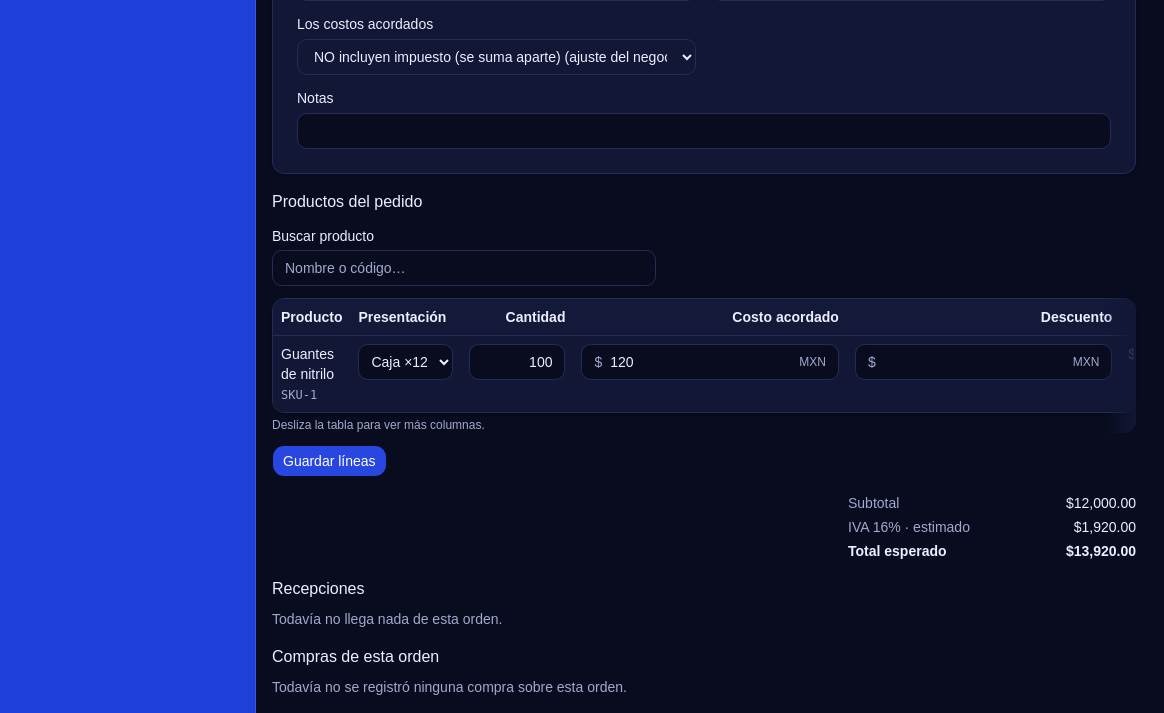
Órdenes de compra — la ficha (F9-PO-12/13) › si falta un campo, el aviso dice la línea › «Guardar líneas» con la cantidad vacía no envía y dice «Línea 1 · Cantidad»
This screenshot has width=1164, height=713.
(page scrolled)
Clear the field named "Cantidad" at [518, 362], box [470,344,566,380]
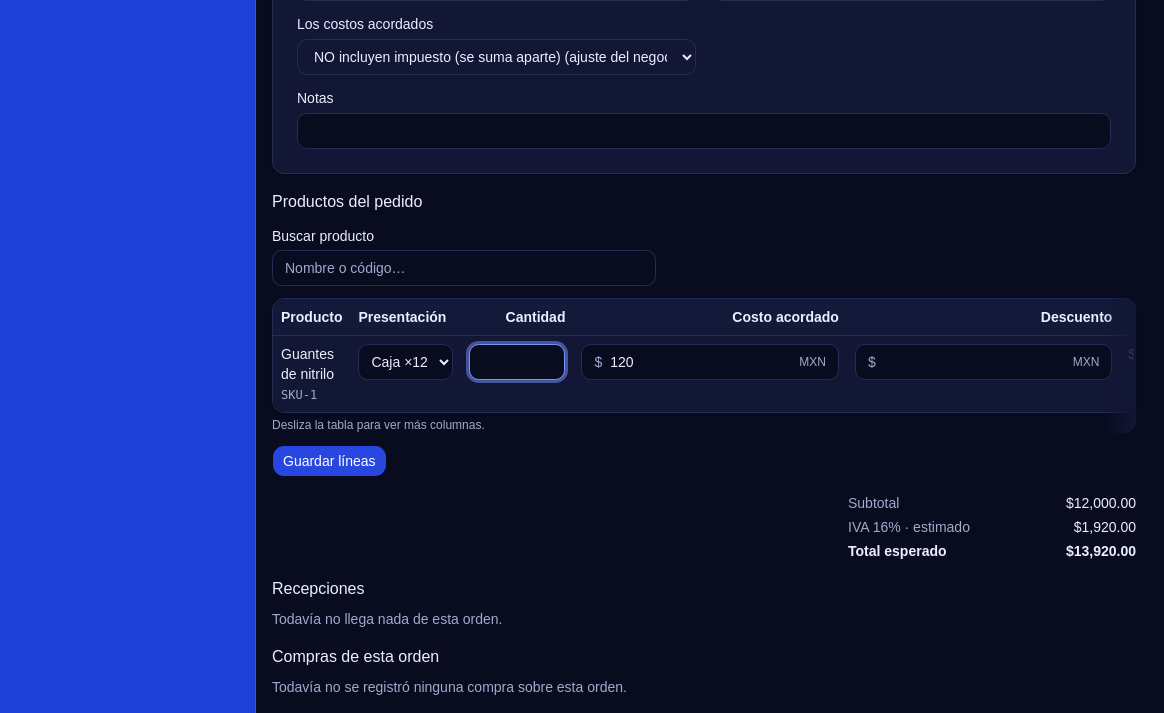
Click the button "Guardar líneas" at [329, 461], box [272,445,387,477]
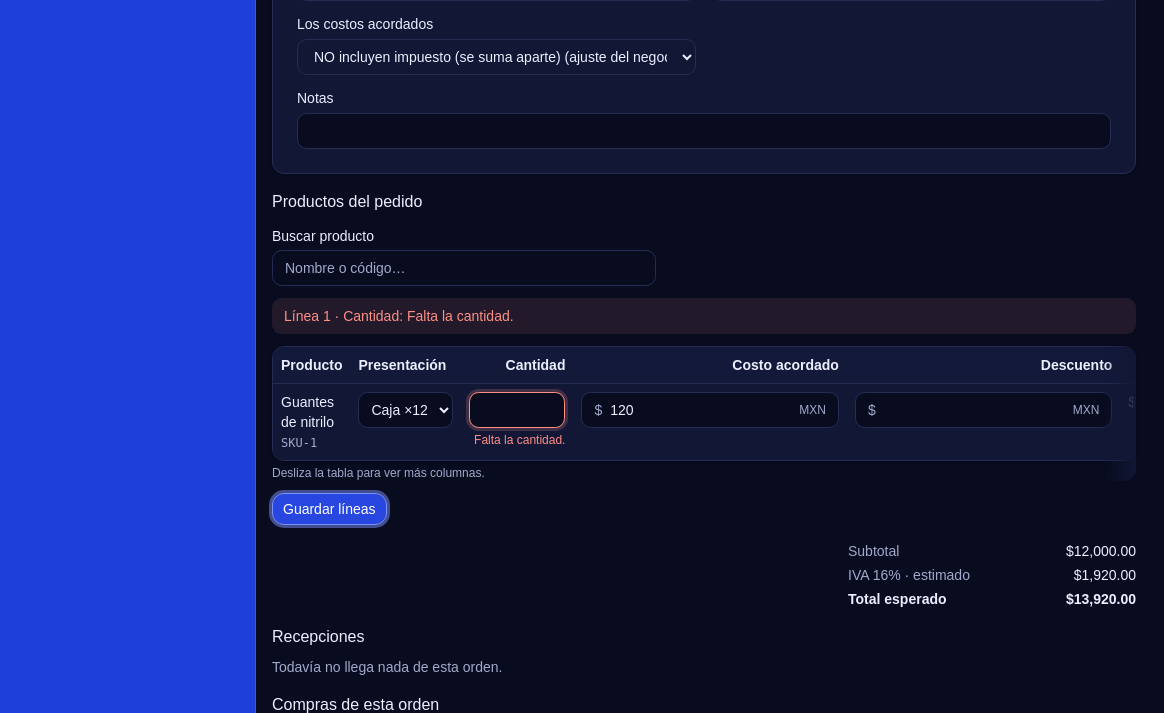
Result: the message with test id "quantity-error-0" reads "Falta la cantidad." at [474,433,566,447]
